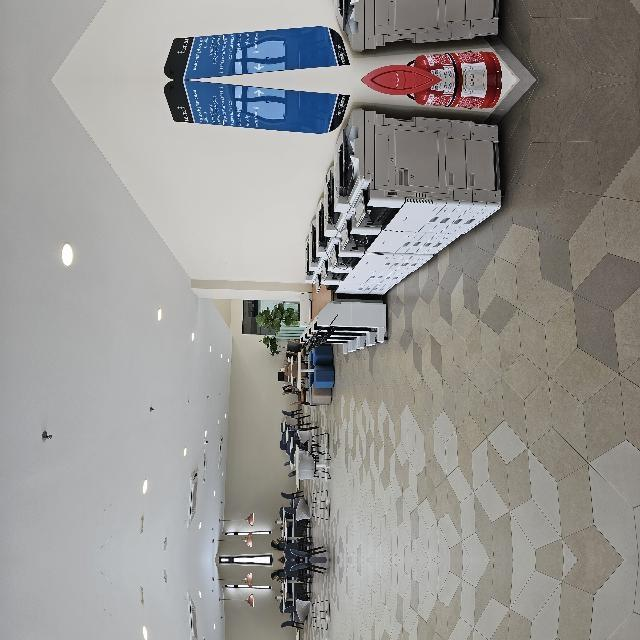obstacle: (208, 378, 480, 612), (208, 508, 479, 640), (38, 369, 132, 407), (154, 372, 206, 420)
